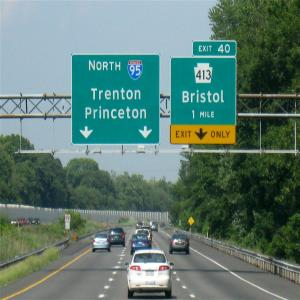Vehicle-registration-plate: (147, 272, 155, 278)
